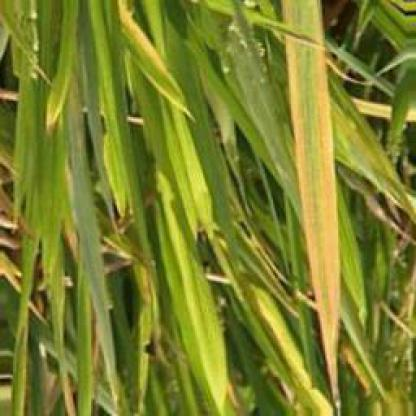Tungro: (285, 3, 357, 403), (148, 151, 229, 416), (119, 11, 191, 125), (248, 300, 323, 407), (170, 126, 217, 245), (40, 58, 87, 144), (104, 140, 130, 244)
